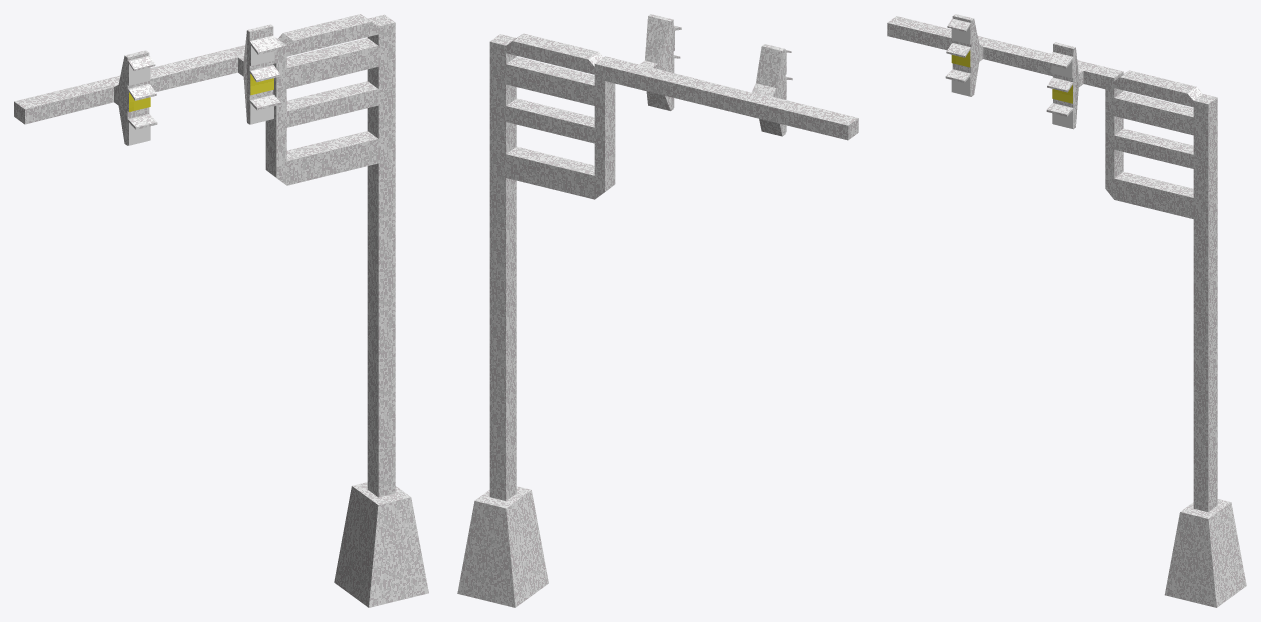
Rendered from BGN_TRAFFIC LIGHT.fbx.
3 renders of one model, left to right at view 1: azimuth 30°, elevation 25°; view 2: azimuth 150°, elevation 25°; view 3: azimuth 330°, elevation 25°, orthographic. The views are drawn at different scales.
Parts seen in each view (by area): view 1: BGN_TRAFFIC_LIGHT; view 2: BGN_TRAFFIC_LIGHT; view 3: BGN_TRAFFIC_LIGHT.
Part boxes in pixels (box(x1,y1,x2,y2)): BGN_TRAFFIC_LIGHT: box(14, 14, 428, 607); BGN_TRAFFIC_LIGHT: box(457, 14, 858, 607); BGN_TRAFFIC_LIGHT: box(887, 14, 1246, 607).
Size of the model in its own units: 457 by 680 by 96.72.
